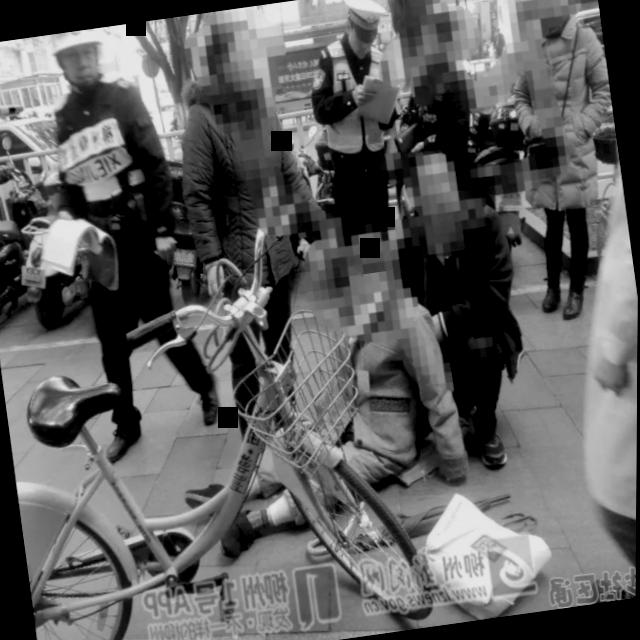Fall-Detected: (144, 192, 483, 600)
